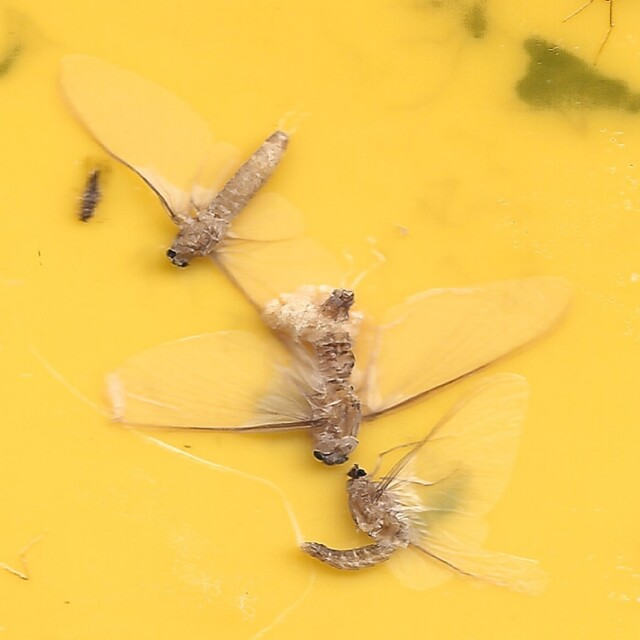Ephemeroptera: (106, 276, 579, 466), (61, 54, 329, 363), (299, 370, 522, 586)
